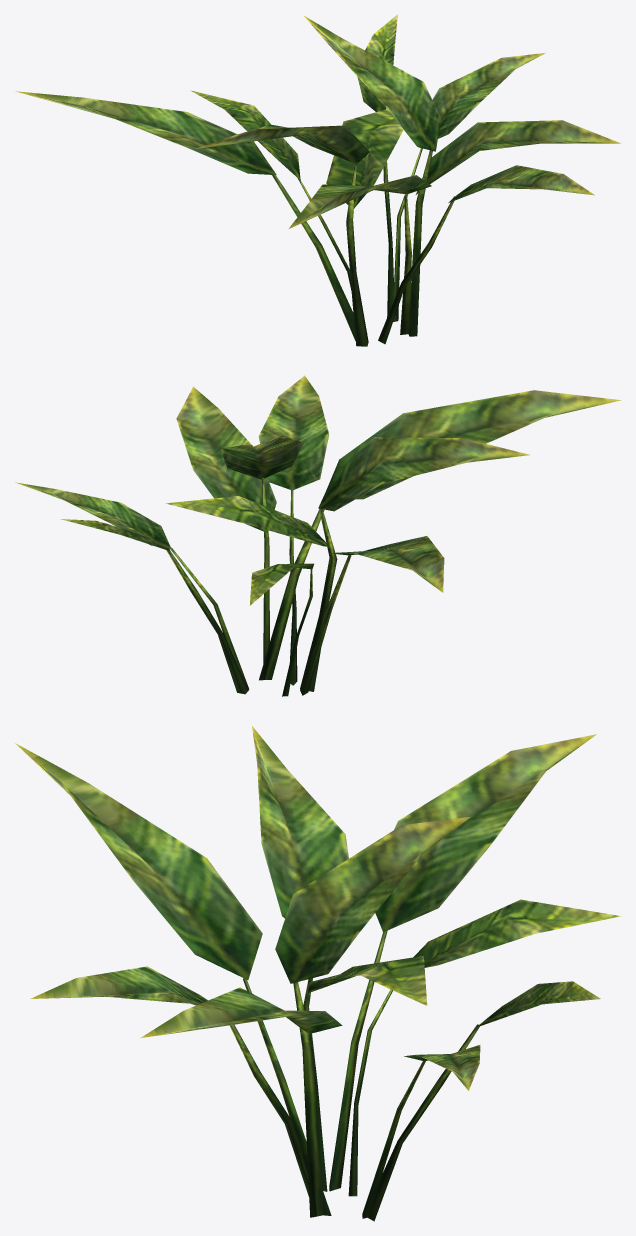
File: f_grass_01.fbx
3 renders of one model, top to bottom at view 1: azimuth 30°, elevation 25°; view 2: azimuth 150°, elevation 25°; view 3: azimuth 270°, elevation 25°, orthographic. The views are drawn at different scales.
Parts seen in each view (by area): view 1: F_Grass_01; view 2: F_Grass_01; view 3: F_Grass_01.
Part boxes in pixels (<box>): F_Grass_01: <box>15,14,620,346</box>; F_Grass_01: <box>15,375,620,696</box>; F_Grass_01: <box>14,726,621,1221</box>.
Bounding box in the file's own units: 3.47 × 1.98 × 2.95.
